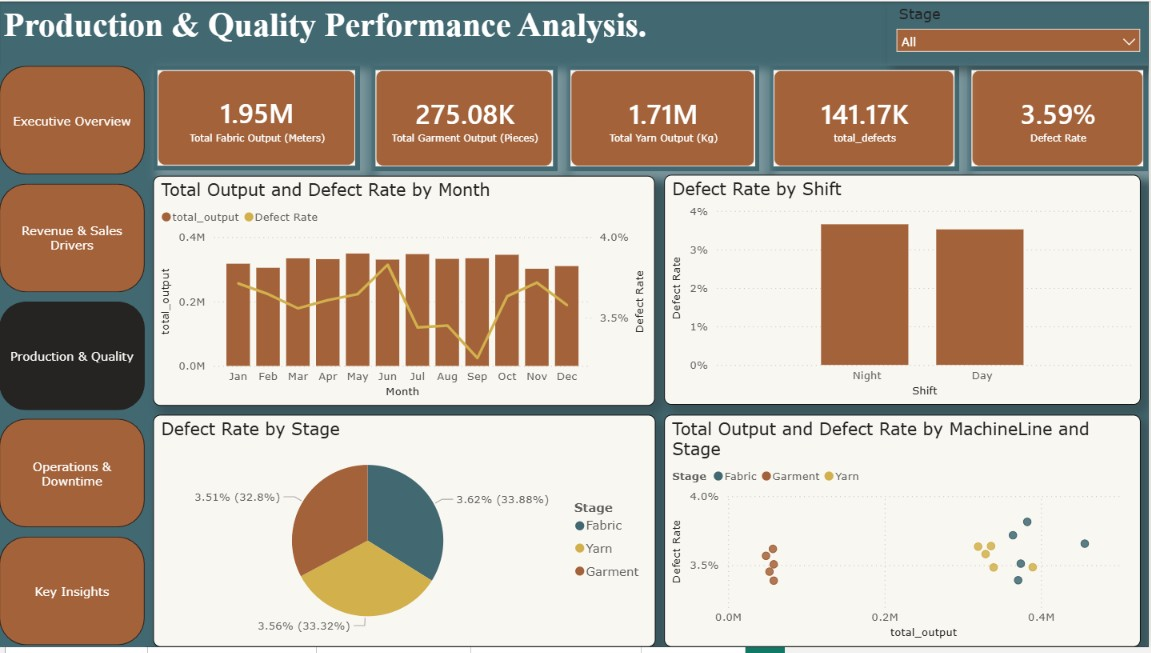

Layout of this report page (visuals, bound fields, positions):
{"tool":"powerbi","page":{"name":"Production & Quality","canvas":[1280,720],"ordinal":2},"visuals":[{"type":"pageNavigator","box":[0,182.3,145.8,537.1],"z":0},{"type":"slicer","fields":{"Values":["Dim_Products.Stage"]},"box":[7,82.7,138.8,92.6],"z":1000},{"type":"cardVisual","fields":{"Data":["measure.defect_rate"]},"box":[1058.4,64.5,221.6,129],"z":2000},{"type":"cardVisual","fields":{"Data":["measure.total_defects"]},"box":[845.6,65.9,224.4,129],"z":3000},{"type":"cardVisual","fields":{"Data":["measure.Total Garment Output (Pieces)"]},"box":[387,64.5,234.2,129],"z":4000},{"type":"cardVisual","fields":{"Data":["measure.Total Fabric Output (Meters)"]},"box":[145.8,65.9,242.6,126.2],"z":5000},{"type":"cardVisual","fields":{"Data":["measure.Total Yarn Output (Kg)"]},"box":[621.2,65.9,237,129],"z":6000},{"type":"lineClusteredColumnComboChart","title":"Total Output and Defect Rate by Month","fields":{"Y":["measure.total_output"],"Y2":["measure.defect_rate"],"Category":["Date.Month"]},"box":[171.2,183.4,558.8,267.8],"z":7000},{"type":"pieChart","fields":{"Category":["Dim_Products.Stage"],"Y":["measure.Defect Rate"]},"box":[171.2,461,558.8,258],"z":8000},{"type":"clusteredColumnChart","fields":{"Category":["Fact_Production.Shift"],"Y":["measure.defect_rate"]},"box":[739.8,183.4,530.7,267.8],"z":9000},{"type":"scatterChart","title":"Total Output and Defect Rate by MachineLine and Stage","fields":{"X":["measure.total_output"],"Y":["measure.defect_rate"],"Series":["Dim_Products.Stage"],"Category":["Fact_Production.MachineLine"]},"box":[739.8,461,530.7,258],"z":10000},{"type":"textbox","box":[0,0,1278.9,71.5],"z":11000}]}

Visuals, with their boxes in screenshot pixels (x1, y1, x2, y2), scaled from the page's 1280x720 canvas onto the 1151x653 screenshot:
pageNavigator: l=0, t=165, r=131, b=652
slicer - Dim_Products.Stage: l=6, t=75, r=131, b=159
cardVisual - measure.defect_rate: l=952, t=58, r=1150, b=175
cardVisual - measure.total_defects: l=760, t=60, r=962, b=177
cardVisual - measure.Total Garment Output (Pieces): l=348, t=58, r=559, b=175
cardVisual - measure.Total Fabric Output (Meters): l=131, t=60, r=349, b=174
cardVisual - measure.Total Yarn Output (Kg): l=559, t=60, r=772, b=177
"Total Output and Defect Rate by Month" lineClusteredColumnComboChart: l=154, t=166, r=656, b=409
pieChart - Dim_Products.Stage x measure.Defect Rate: l=154, t=418, r=656, b=652
clusteredColumnChart - Fact_Production.Shift x measure.defect_rate: l=665, t=166, r=1142, b=409
"Total Output and Defect Rate by MachineLine and Stage" scatterChart: l=665, t=418, r=1142, b=652
textbox: l=0, t=0, r=1150, b=65
